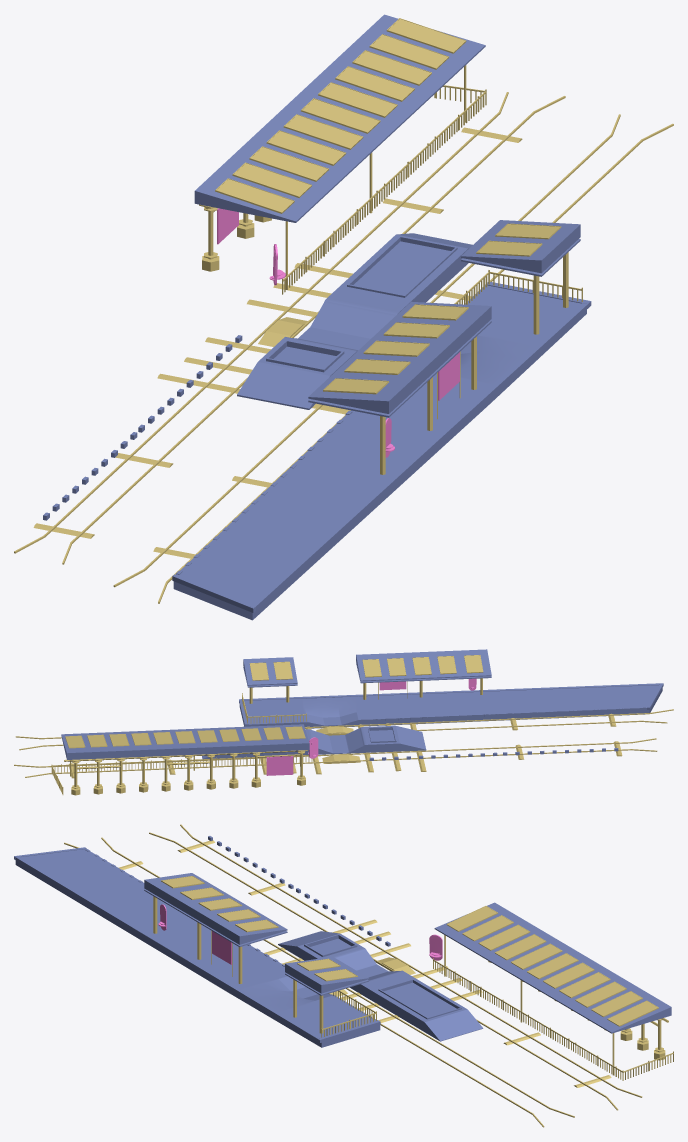
Rendered from Station_substance.fbx.
3 renders of one model, top to bottom at view 1: azimuth 30°, elevation 25°; view 2: azimuth 150°, elevation 25°; view 3: azimuth 270°, elevation 25°, orthographic. The views are drawn at different scales.
Parts seen in each view (by area): view 1: pCube35, pCube227, pCube160, pCube164, pCube291, pCube293, pCube2, pCube1, pCube229, pCube282, pCube281, pCube283 (+8 smaller); view 2: pCube35, pCube160, pCube227, pCube164, pCube291, pCube1, pCube293, pCube2, pCube228, pCube297, pCube229, pCube165 (+10 smaller); view 3: pCube35, pCube227, pCube160, pCube164, pCube291, pCube293, pCube2, pCube1, pCube229, pCube279, pCube280, pCube286 (+9 smaller).
Boxes of the visible parts, x1,y1,x2,y2 form: pCube35: [173, 285, 586, 620]; pCube227: [237, 233, 472, 409]; pCube160: [194, 14, 485, 222]; pCube164: [308, 301, 491, 413]; pCube291: [249, 300, 591, 611]; pCube293: [461, 220, 580, 273]; pCube2: [44, 112, 500, 536]; pCube1: [70, 111, 534, 543]; pCube229: [143, 134, 612, 571]; pCube282: [266, 130, 346, 165]; pCube281: [249, 146, 328, 181]; pCube283: [283, 114, 363, 149]; pCube35: [239, 685, 662, 728]; pCube160: [61, 724, 309, 759]; pCube227: [202, 725, 426, 759]; pCube164: [356, 649, 491, 681]; pCube291: [239, 683, 662, 702]; pCube1: [39, 742, 632, 767]; pCube293: [243, 657, 297, 685]; pCube2: [49, 749, 631, 774]; pCube228: [40, 713, 649, 739]; pCube297: [266, 756, 293, 775]; pCube229: [43, 720, 641, 746]; pCube165: [356, 663, 491, 683]; pCube35: [15, 849, 380, 1047]; pCube227: [278, 931, 483, 1041]; pCube160: [434, 902, 671, 1033]; pCube164: [144, 873, 287, 944]; pCube291: [15, 856, 323, 1042]; pCube293: [285, 956, 368, 993]; pCube2: [192, 837, 617, 1088]; pCube1: [173, 841, 606, 1097]; pCube229: [112, 850, 549, 1108]; pCube279: [446, 906, 498, 931]; pCube280: [462, 915, 513, 941]; pCube286: [559, 972, 610, 998].
Size of the model in its own units: 65.04 by 6.23 by 60.06.
